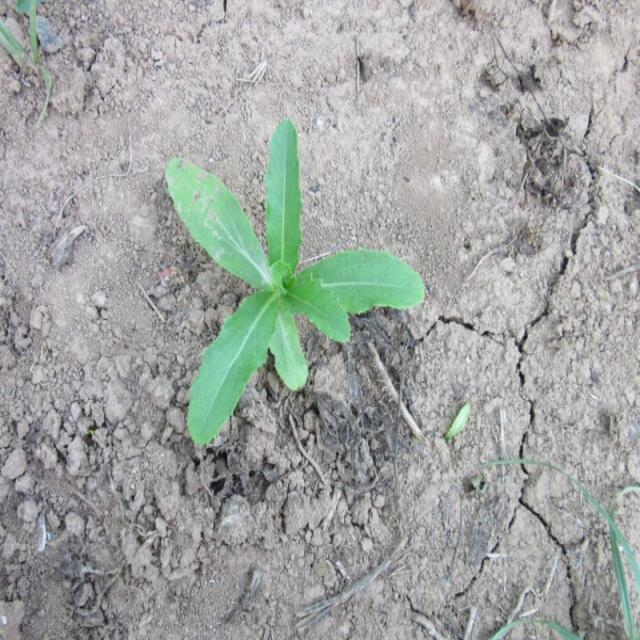cs: (166, 116, 425, 446)
